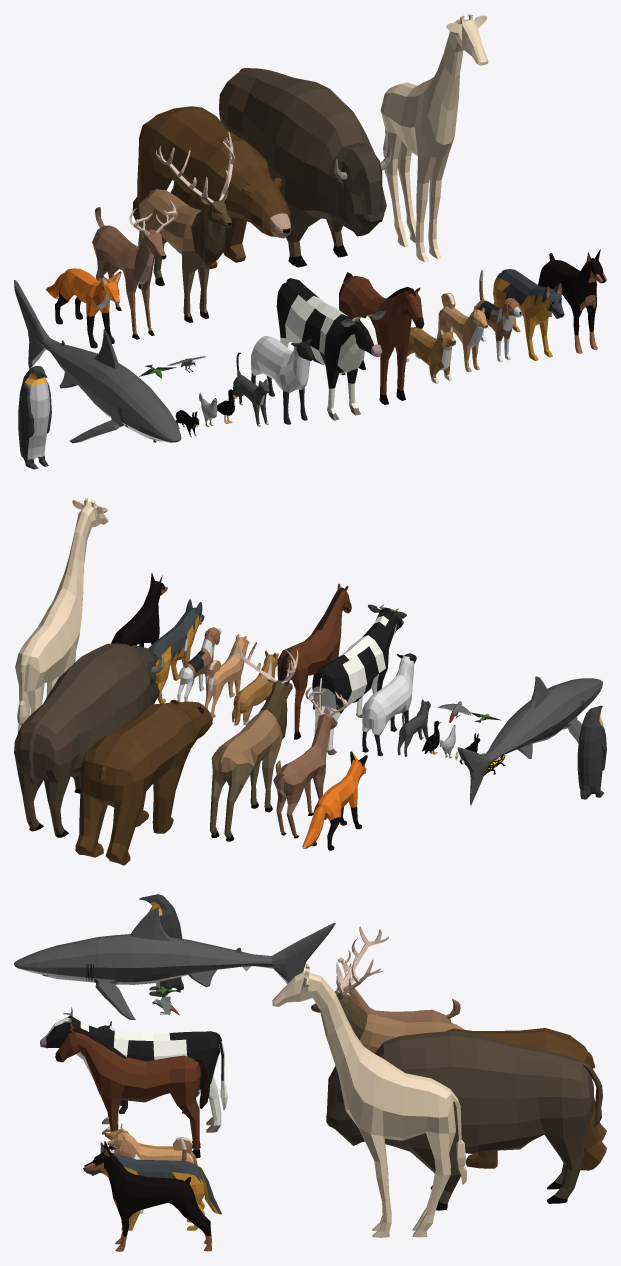
Rendered from AllAnimals(notOne1Point).fbx.
3 renders of one model, top to bottom at view 1: azimuth 30°, elevation 25°; view 2: azimuth 150°, elevation 25°; view 3: azimuth 270°, elevation 25°, orthographic. The views are drawn at different scales.
Visible parts, largest first — view 1: 04bizonFinal, 08bearFinal, 18girafFinal, 07sharkFinal, 09deerFinal, 13cowFinal, 17horseFinal, 05deerFinal, 10sheepFinal, 25dogFinal, 12dogFinal, 01foxFinal (+5 smaller); view 2: 04bizonFinal, 08bearFinal, 18girafFinal, 09deerFinal, 07sharkFinal, 13cowFinal, 05deerFinal, 17horseFinal, 10sheepFinal, 01foxFinal, 06penguinFinal, 25dogFinal (+5 smaller); view 3: 04bizonFinal, 18girafFinal, 07sharkFinal, 17horseFinal, 13cowFinal, 12dogFinal, 08bearFinal, 09deerFinal, 25dogFinal, 05deerFinal, 19dogFinal, 06penguinFinal.
Part boxes in pixels (x1,y1,x2,y2): 04bizonFinal: (219, 68, 391, 267); 08bearFinal: (132, 106, 291, 268); 18girafFinal: (380, 14, 488, 262); 07sharkFinal: (14, 280, 181, 443); 09deerFinal: (138, 132, 235, 322); 13cowFinal: (276, 278, 385, 420); 17horseFinal: (339, 272, 424, 404); 05deerFinal: (92, 200, 177, 339); 10sheepFinal: (251, 336, 313, 424); 25dogFinal: (493, 269, 564, 360); 12dogFinal: (538, 249, 606, 353); 01foxFinal: (46, 268, 121, 348); 04bizonFinal: (14, 643, 164, 837); 08bearFinal: (75, 699, 212, 865); 18girafFinal: (15, 498, 108, 732); 09deerFinal: (210, 642, 298, 841); 07sharkFinal: (457, 676, 602, 806); 13cowFinal: (312, 604, 406, 755); 05deerFinal: (273, 687, 347, 838); 17horseFinal: (277, 583, 351, 739); 10sheepFinal: (362, 653, 416, 756); 01foxFinal: (302, 751, 367, 850); 06penguinFinal: (577, 705, 606, 799); 25dogFinal: (148, 599, 204, 703); 04bizonFinal: (326, 1031, 602, 1210); 18girafFinal: (272, 963, 467, 1237); 07sharkFinal: (14, 906, 335, 1019); 17horseFinal: (55, 1024, 210, 1158); 13cowFinal: (40, 1007, 227, 1134); 12dogFinal: (84, 1141, 211, 1251); 08bearFinal: (446, 1028, 606, 1170); 09deerFinal: (311, 926, 464, 1053); 25dogFinal: (83, 1142, 221, 1230); 05deerFinal: (337, 950, 460, 1022); 19dogFinal: (107, 1128, 193, 1163); 06penguinFinal: (139, 894, 183, 996).
Size of the model in its own units: 853 by 401 by 800.
25 materials, 25 textured.
